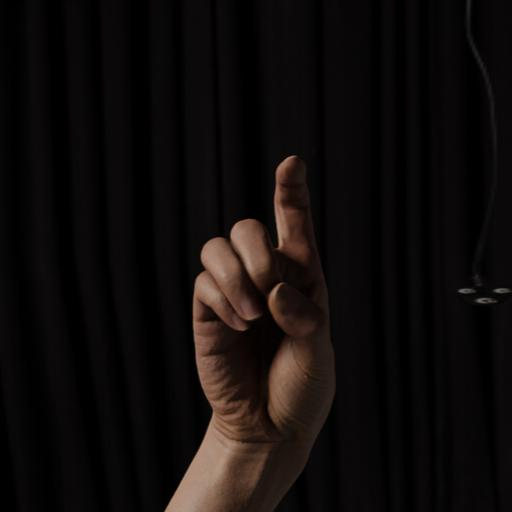X: (158, 135, 349, 438)
